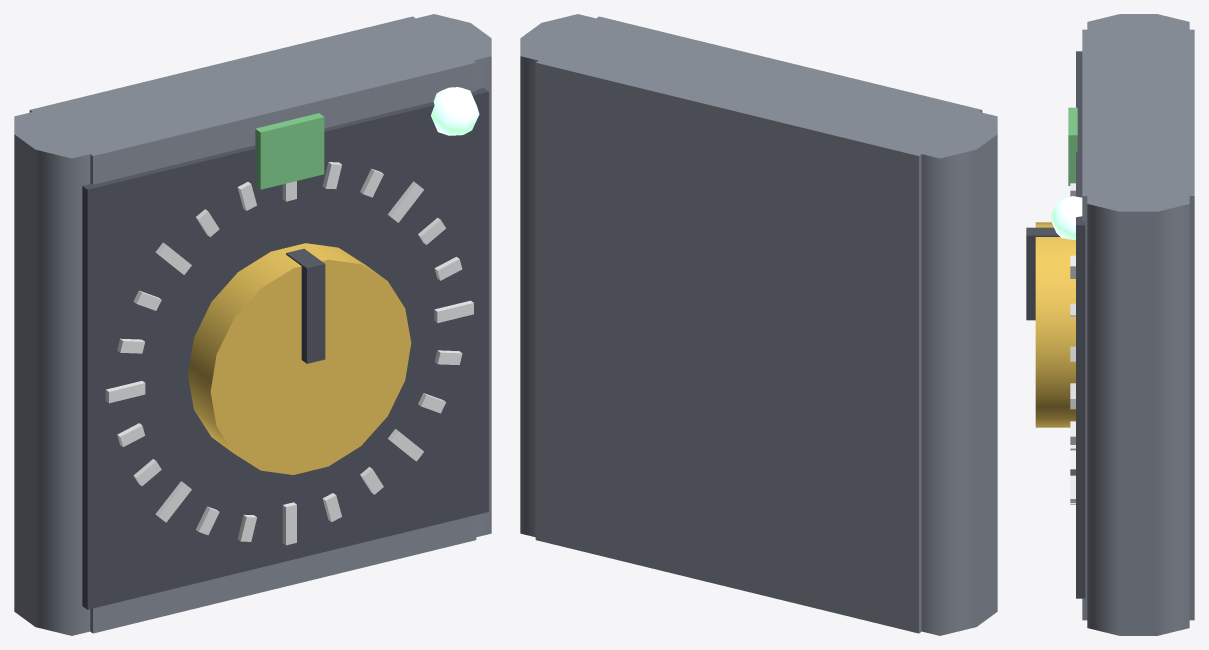
Rendered from prop_dial_calibrator.glb.
3 renders of one model, left to right at view 1: azimuth 30°, elevation 25°; view 2: azimuth 150°, elevation 25°; view 3: azimuth 270°, elevation 25°, orthographic. The views are drawn at different scales.
Parts seen in each view (by area): view 1: prop_dial_calibrator, dial_knob, target_zone, indicator_light; view 2: prop_dial_calibrator; view 3: prop_dial_calibrator, dial_knob, indicator_light, target_zone.
Part boxes in pixels (x1,y1,x2,y2): prop_dial_calibrator: [14, 14, 491, 635]; dial_knob: [188, 243, 411, 474]; target_zone: [255, 113, 324, 189]; indicator_light: [431, 87, 479, 135]; prop_dial_calibrator: [520, 14, 997, 635]; prop_dial_calibrator: [1070, 14, 1194, 635]; dial_knob: [1026, 222, 1075, 427]; indicator_light: [1050, 196, 1082, 239]; target_zone: [1068, 107, 1077, 185].
Bounding box in the file's own units: 0.5 × 0.5 × 0.18.
